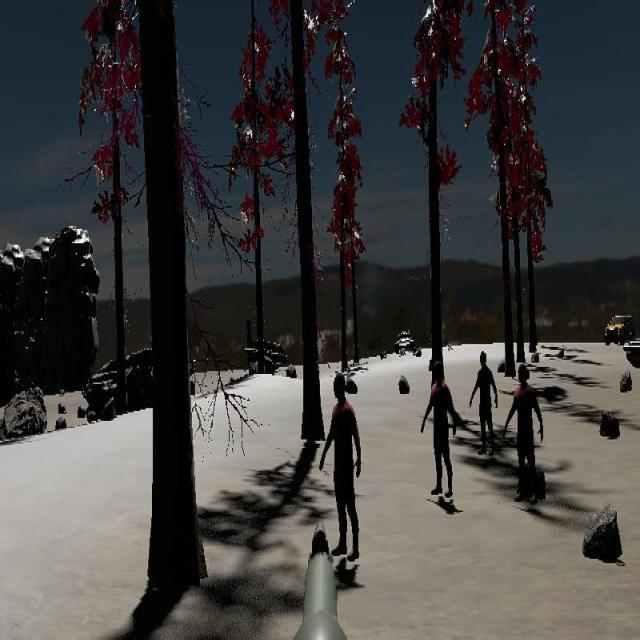car: (605, 312, 634, 347)
